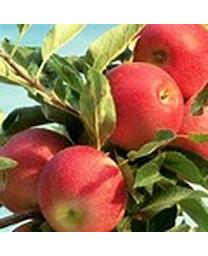apple: (37, 146, 129, 230), (108, 62, 183, 153), (2, 129, 73, 213), (134, 24, 207, 101)
